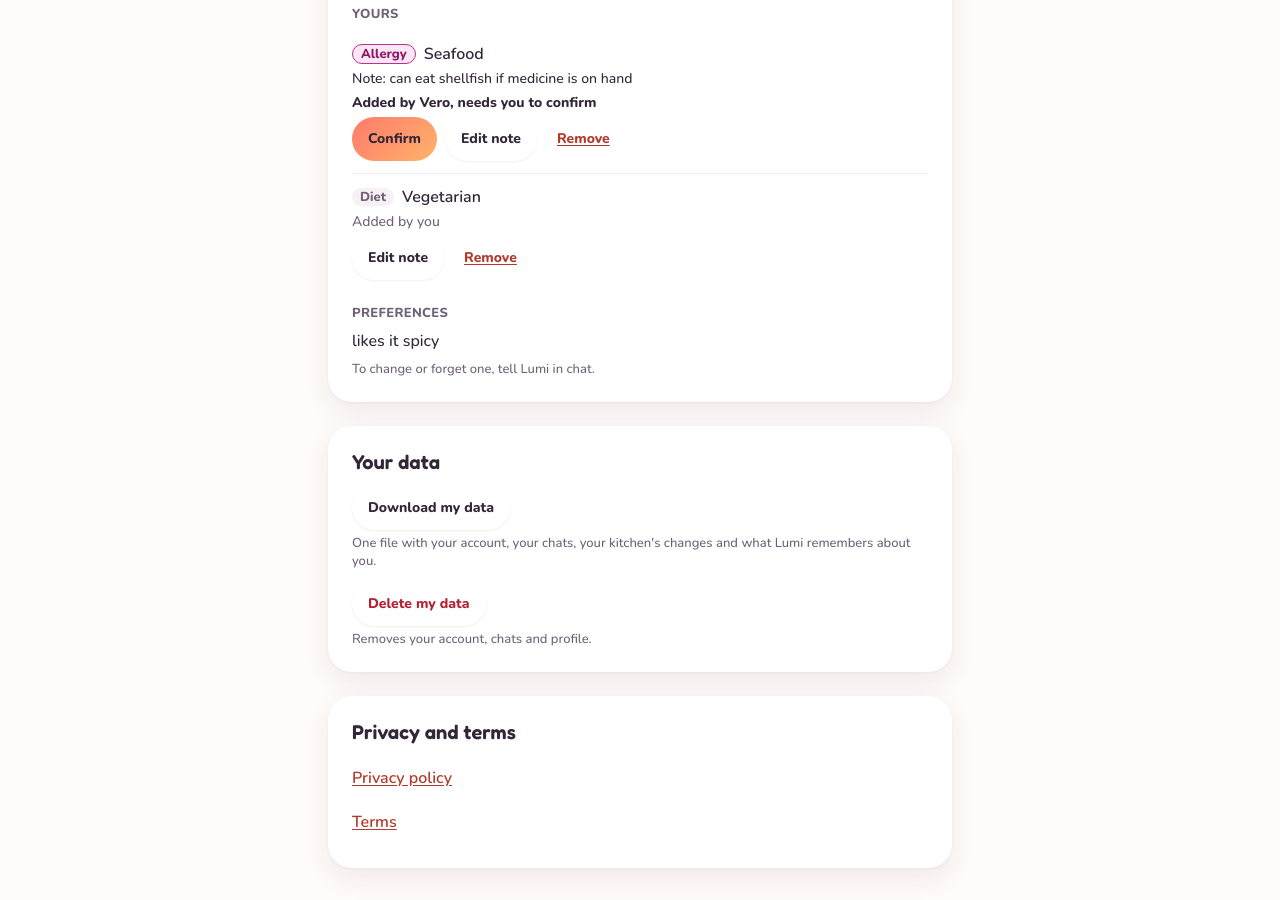
Test: Sign out and Delete my data › Delete is guarded by the typed phrase; a failure keeps the sheet open and says nothing was deleted
(page scrolled)
Click the button "Delete my data" at (419, 604), box [352,582,486,626]
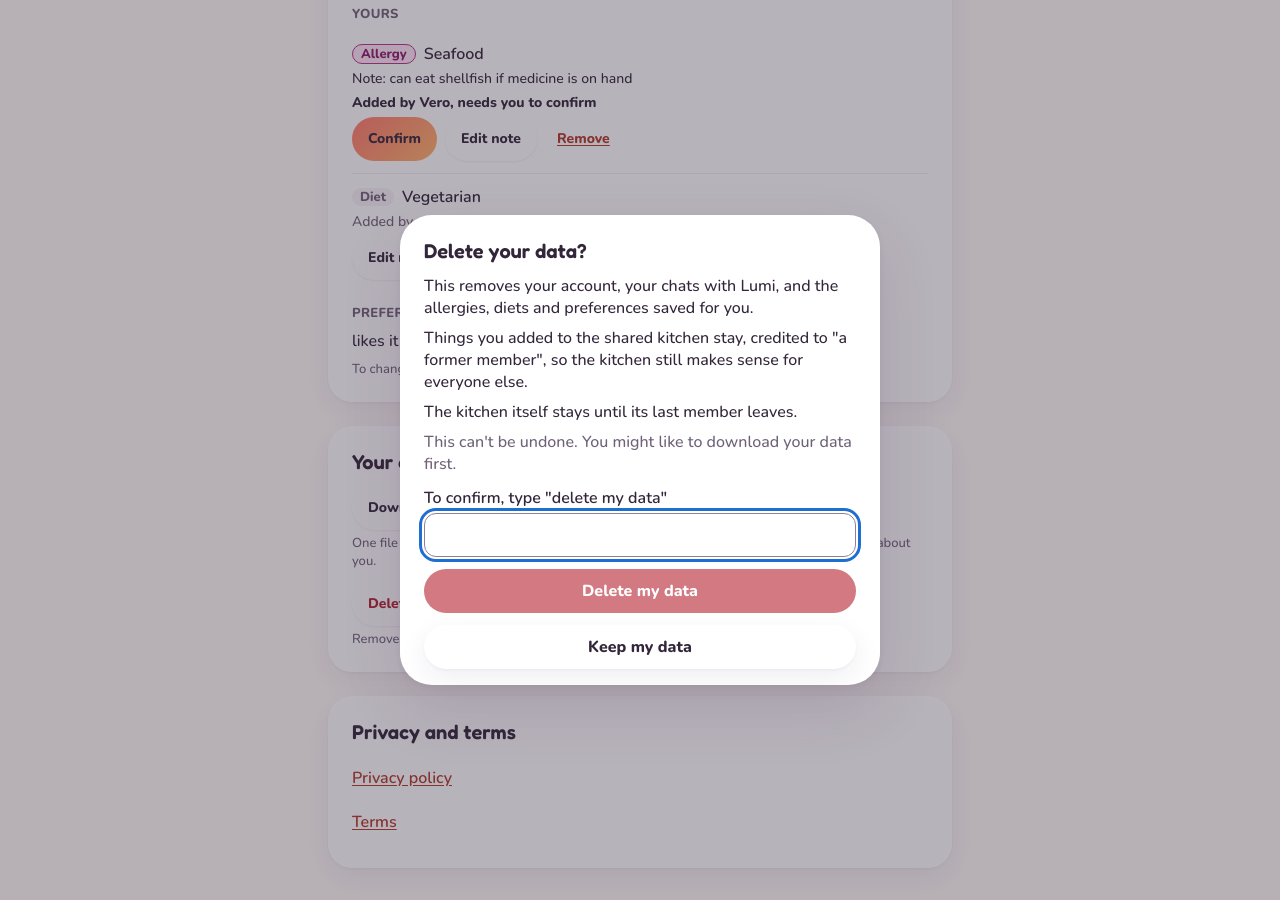
Expected: the dialog "Delete your data?" shows "credited to \"a former member\"", [424,327,847,393]
Expected: the dialog "Delete your data?" shows "The kitchen itself stays until its last member leaves.", [424,401,797,423]
Click the button "Delete my data" at (640, 591), box [424,569,856,613]
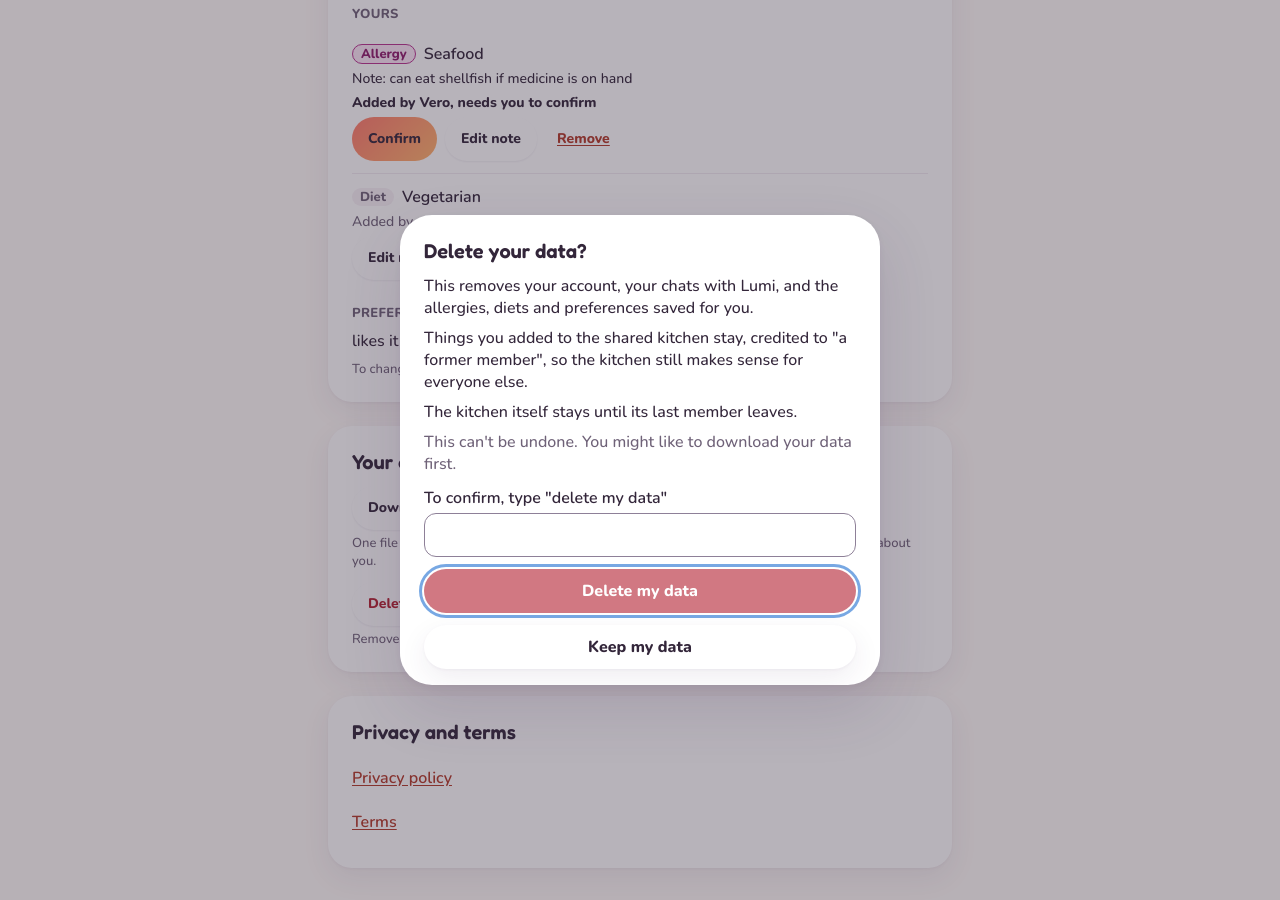
Type "delete my dat" into the field labelled "To confirm, type \"delete my data\"" at (640, 535), box [424,513,856,557]
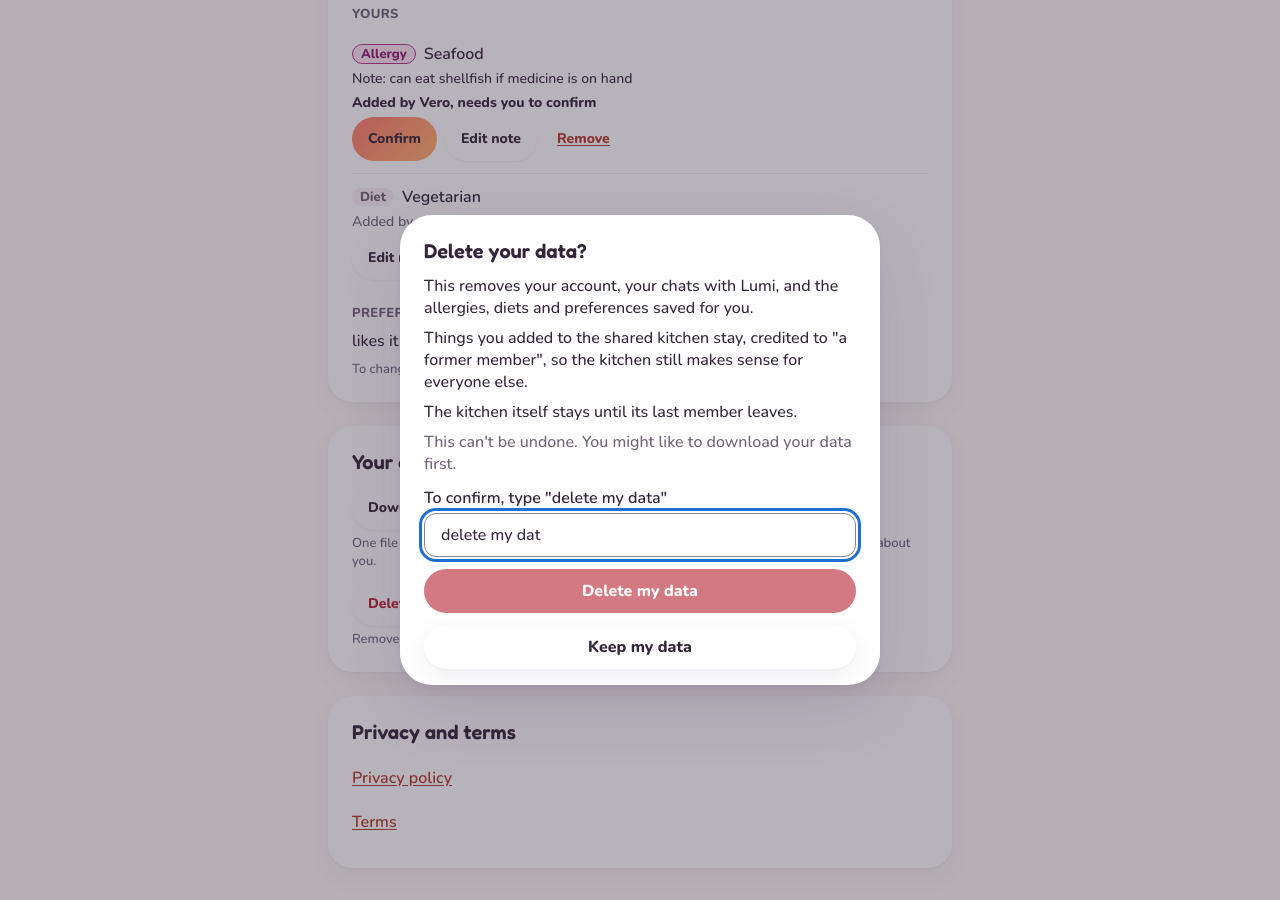
Click the button "Delete my data" at (640, 591), box [424,569,856,613]
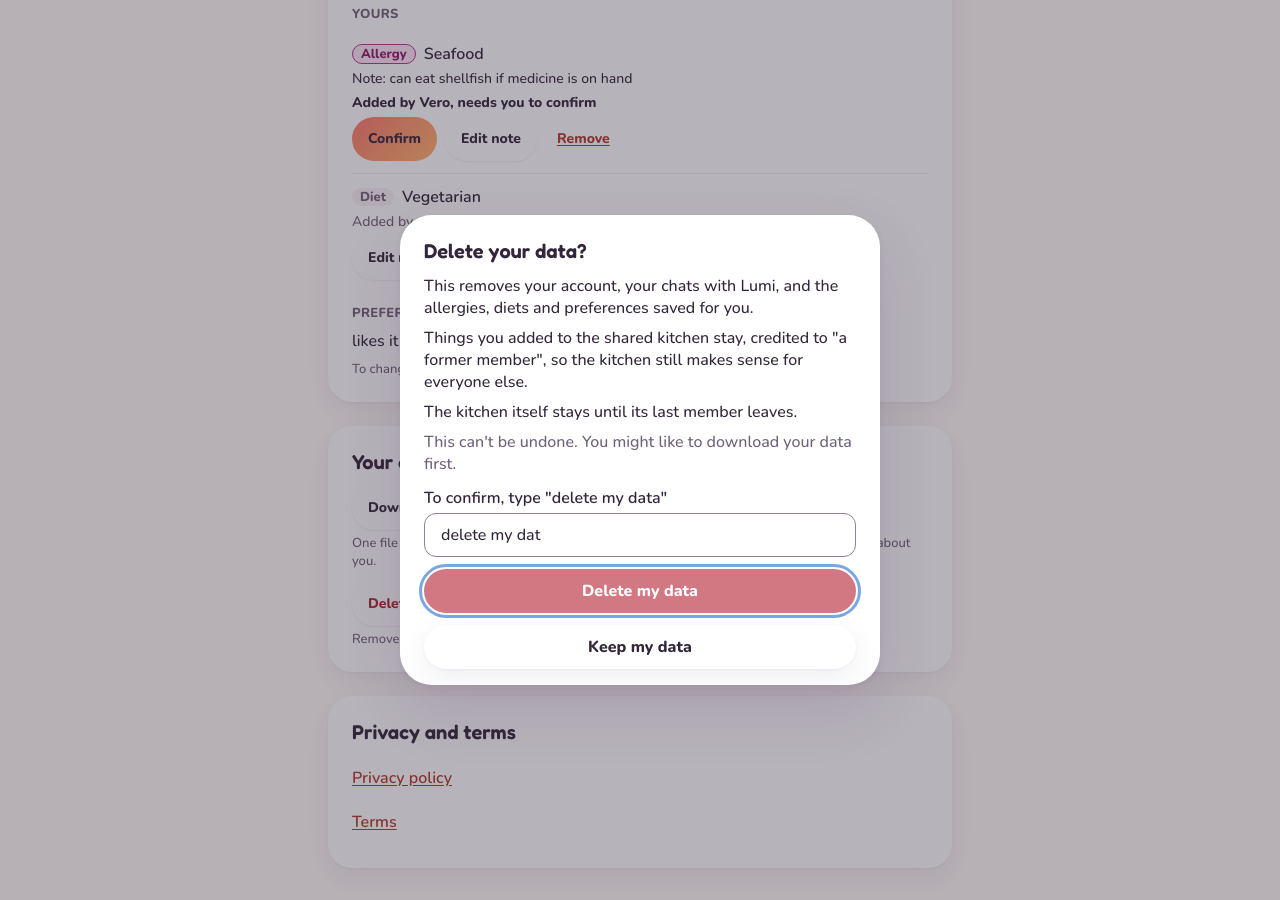
Replace the text in the field labelled "To confirm, type \"delete my data\"" with "  Delete My Data " at (640, 535), box [424,513,856,557]
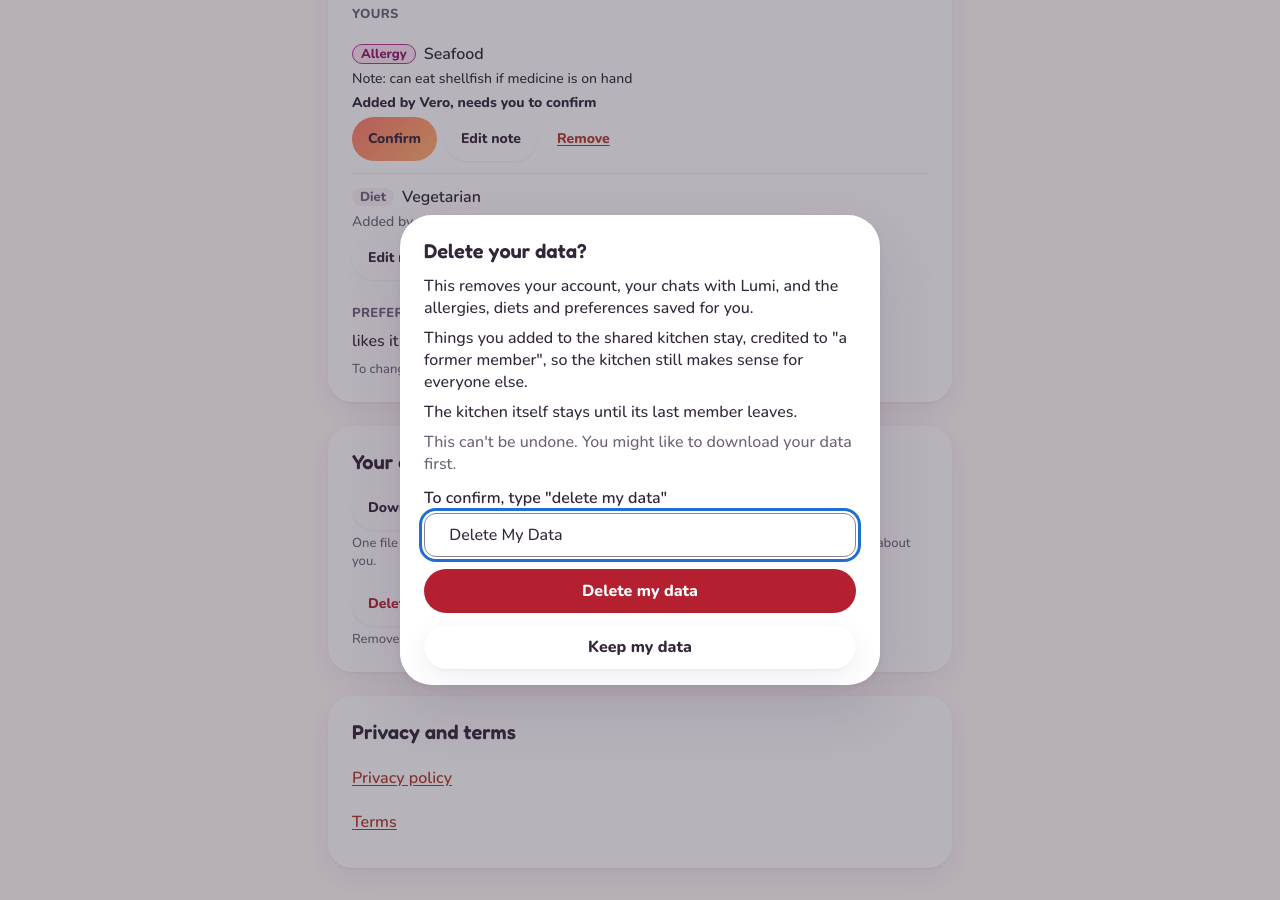
Expected: the button "Delete my data" does not have attribute aria-disabled
Click the button "Delete my data" at (640, 591), box [424,569,856,613]
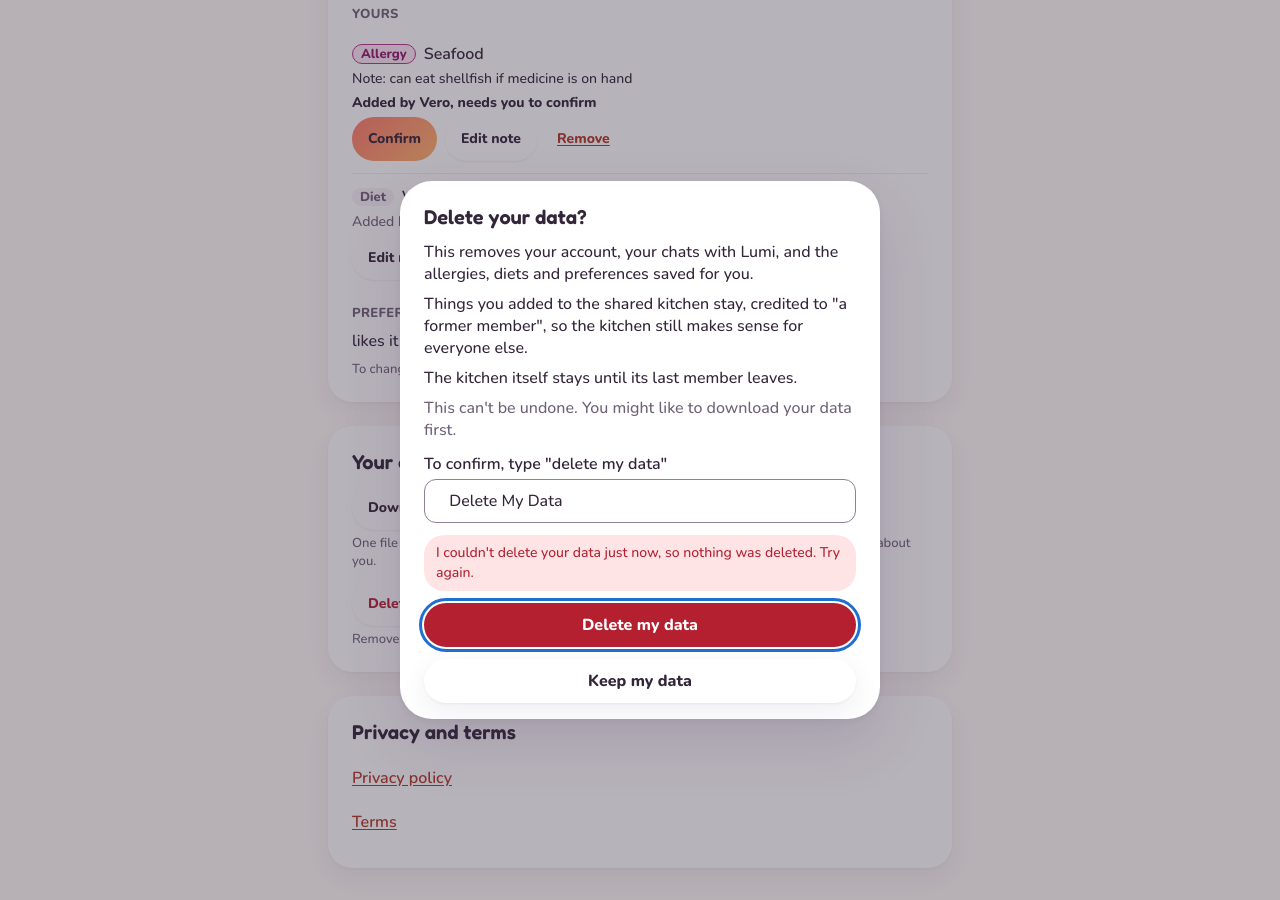
Expected: the message shows "so nothing was deleted", [436,543,840,582]
